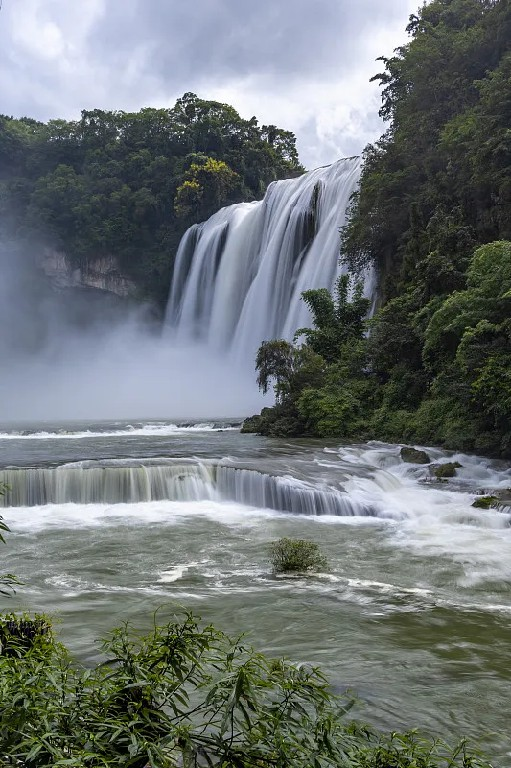Huangguoshu: (156, 156, 376, 422)
